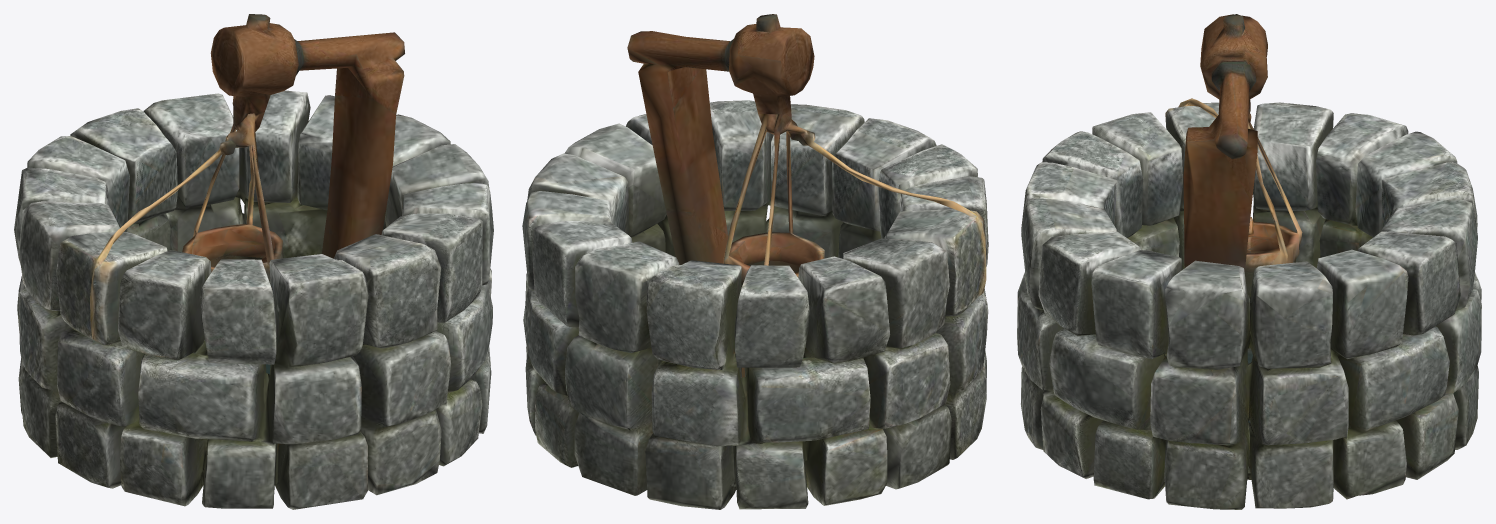
File: well.glb
The picture shows the model from 3 angles, left to right: view 1: azimuth 30°, elevation 25°; view 2: azimuth 150°, elevation 25°; view 3: azimuth 270°, elevation 25°; orthographic projection. The views are drawn at different scales.
Visible parts, largest first — view 1: Mesh_0; view 2: Mesh_0; view 3: Mesh_0.
Part boxes in pixels (x1=…): Mesh_0: x1=14, y1=14, x2=493, y2=509; Mesh_0: x1=522, y1=14, x2=988, y2=509; Mesh_0: x1=1017, y1=14, x2=1481, y2=509.
Size of the model in its own units: 1.9 by 1.78 by 1.89.
1 material, 1 textured.
